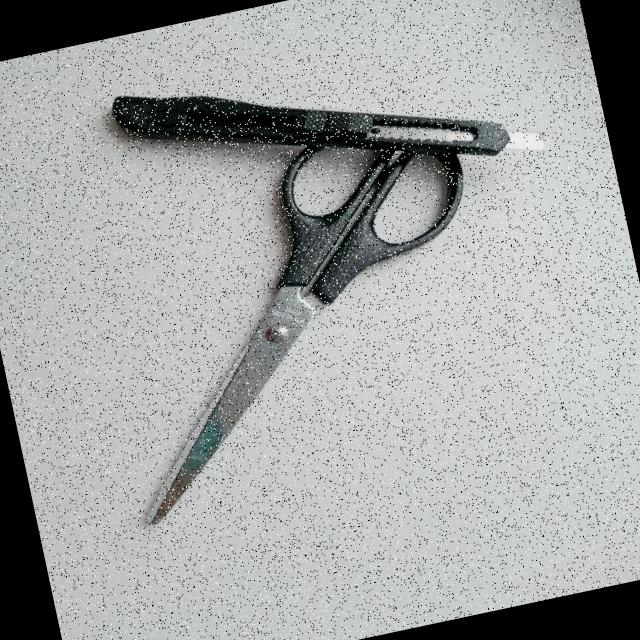scissors: (121, 114, 485, 540)
